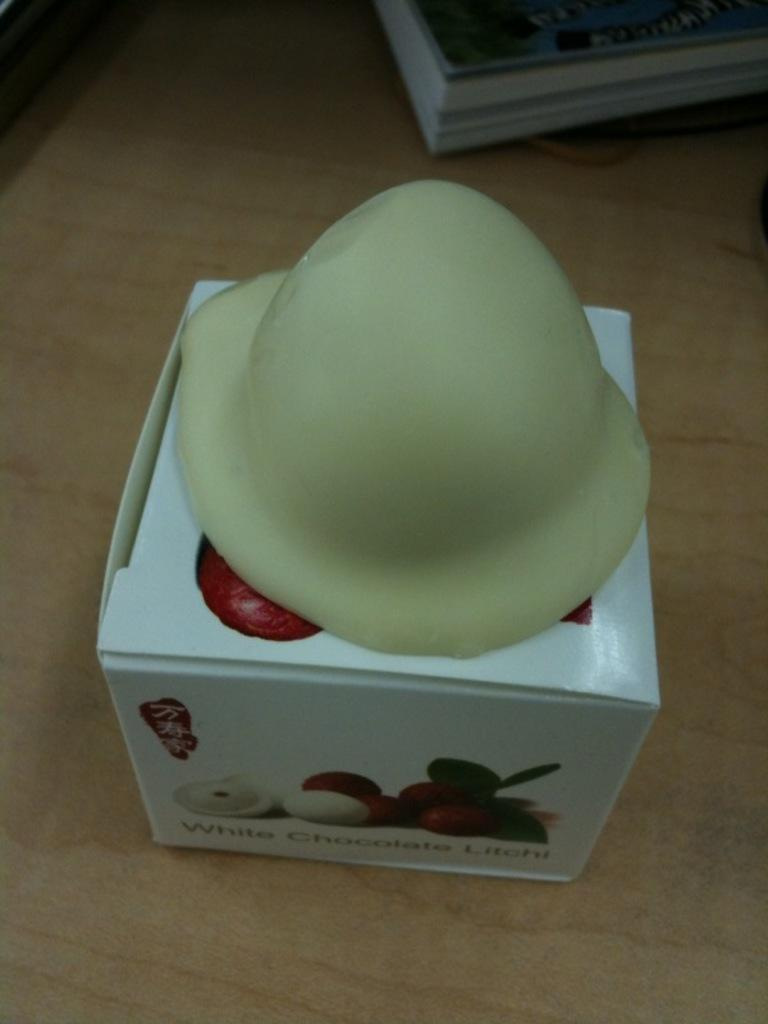Hat: (178, 180, 654, 663)
